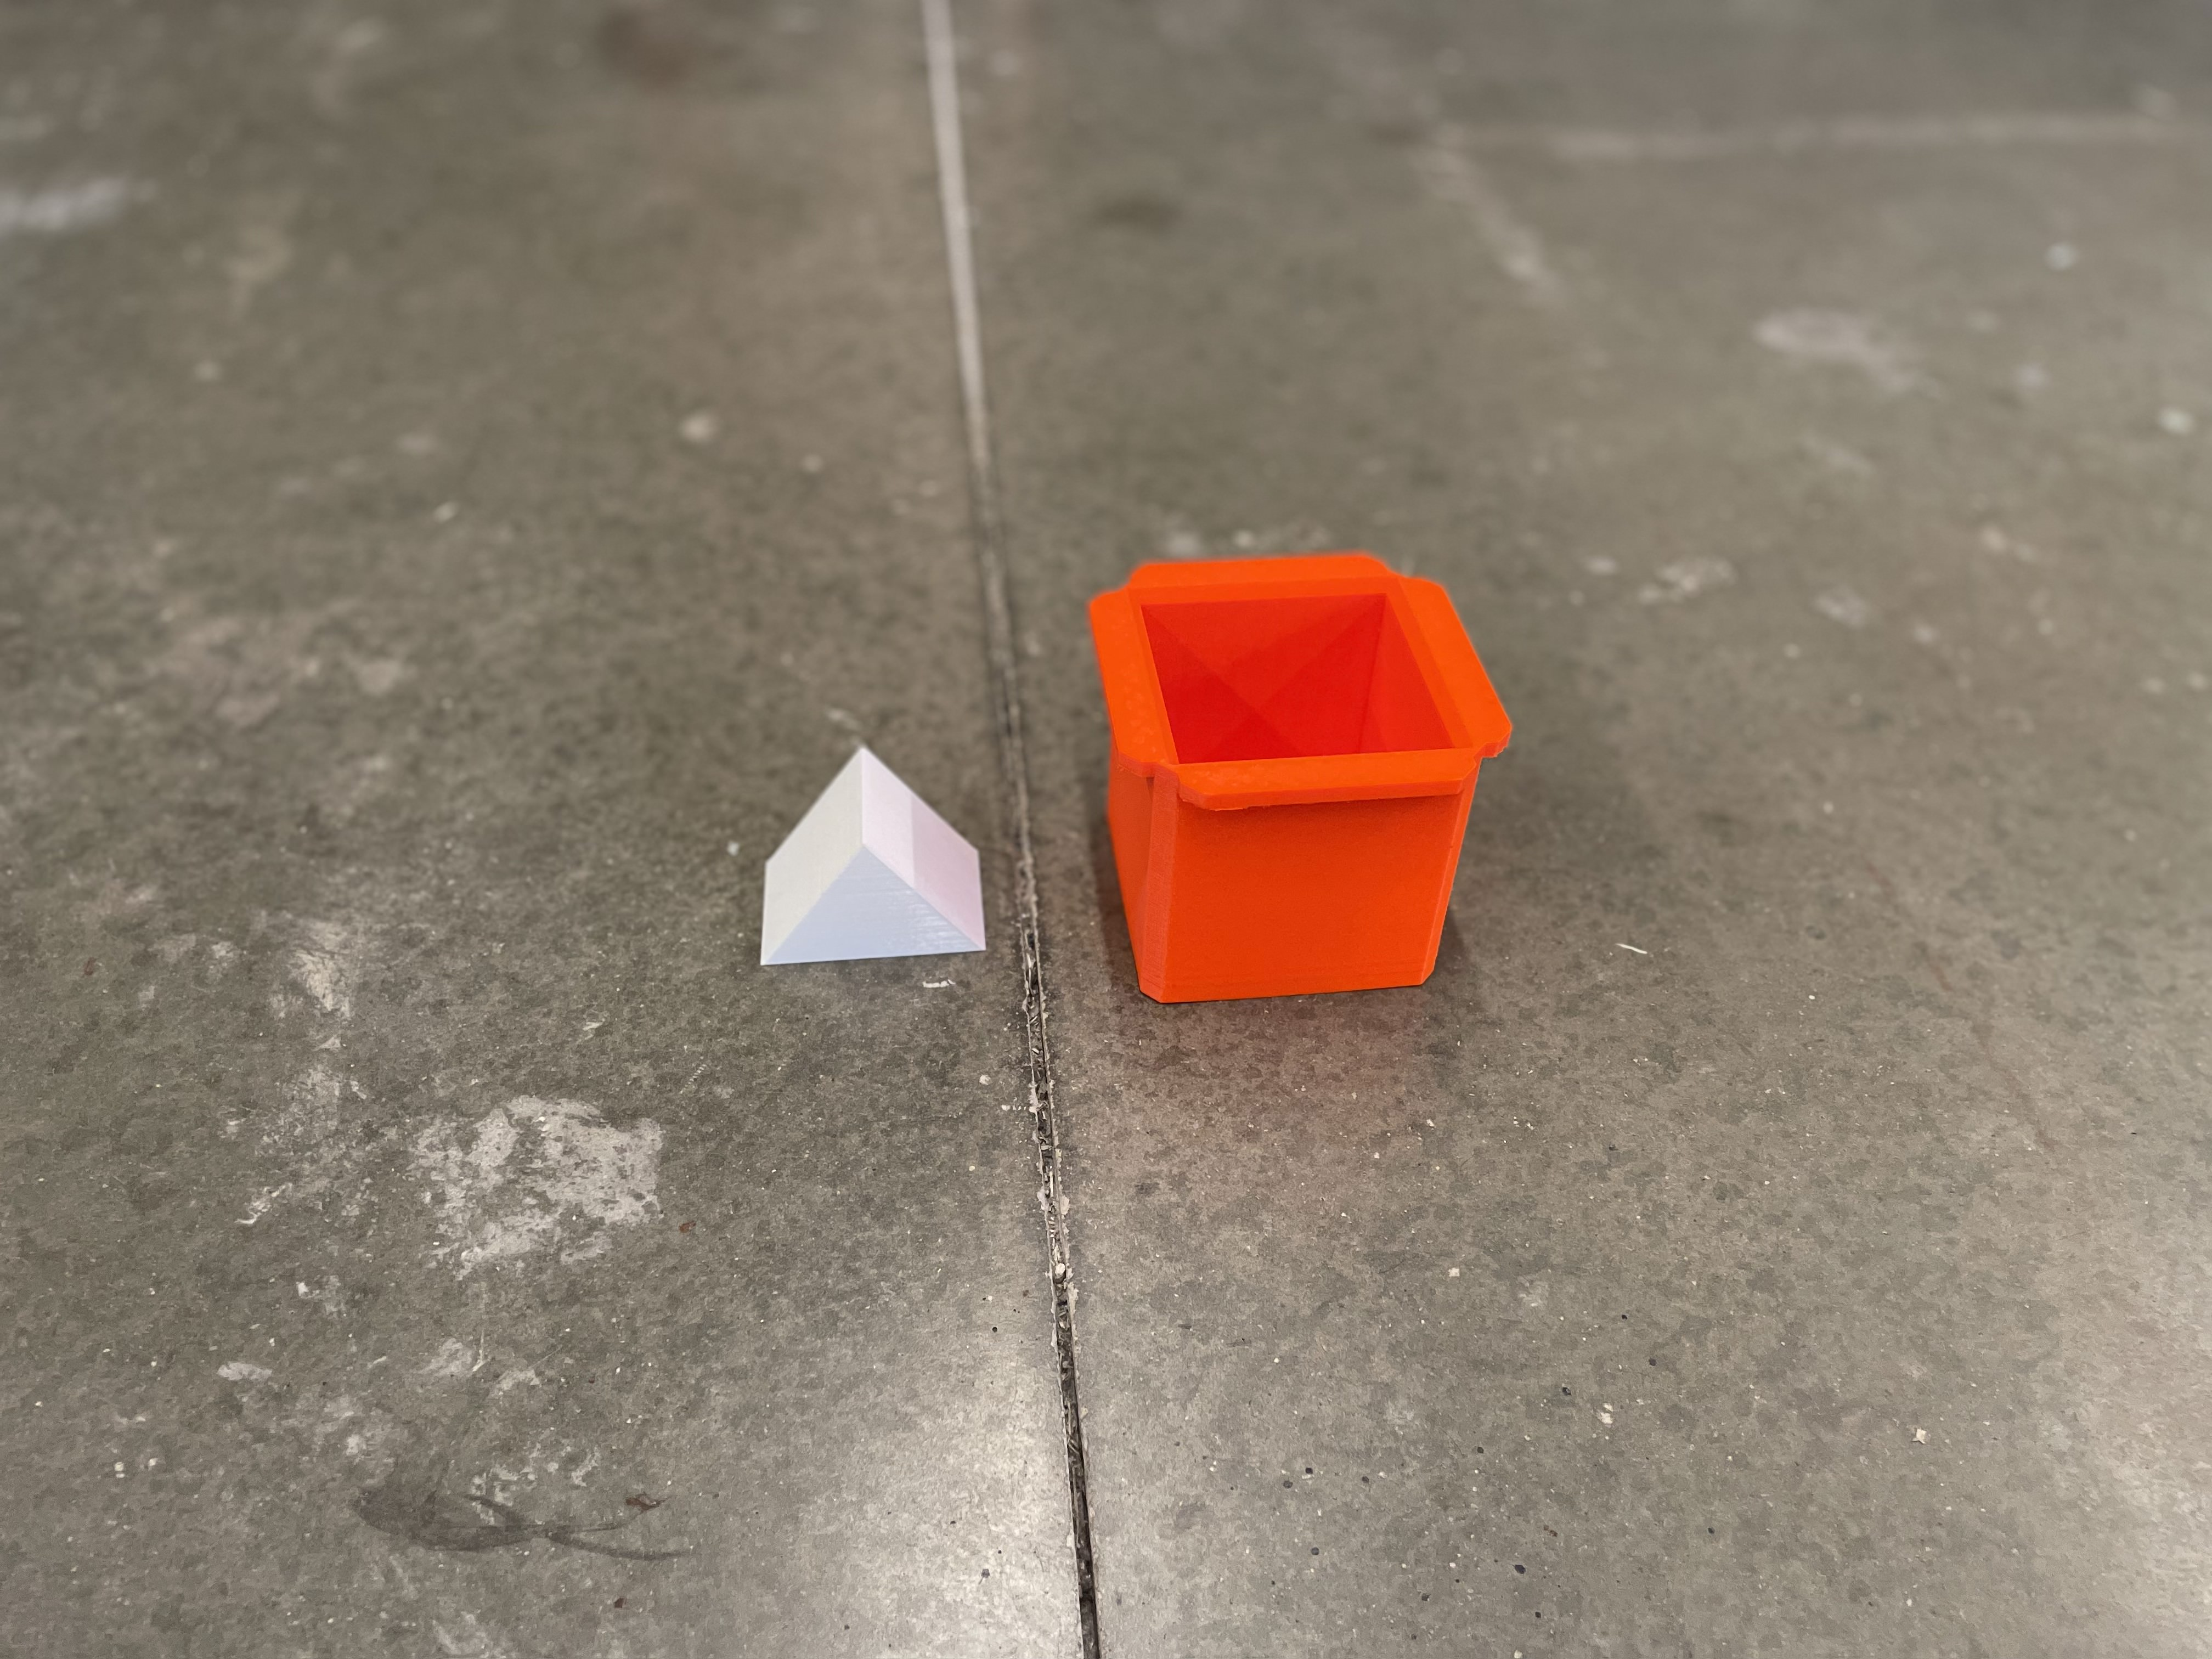payload1: (1073, 545, 1522, 1021)
payload2: (740, 720, 1015, 1002)
